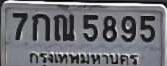5: (82, 14, 97, 41), (139, 15, 154, 41)
7: (12, 12, 27, 39)
8: (102, 15, 115, 41)
9: (120, 15, 135, 41)
A01: (31, 13, 49, 40)
A19: (53, 12, 74, 40)
BKK: (24, 49, 141, 66)
